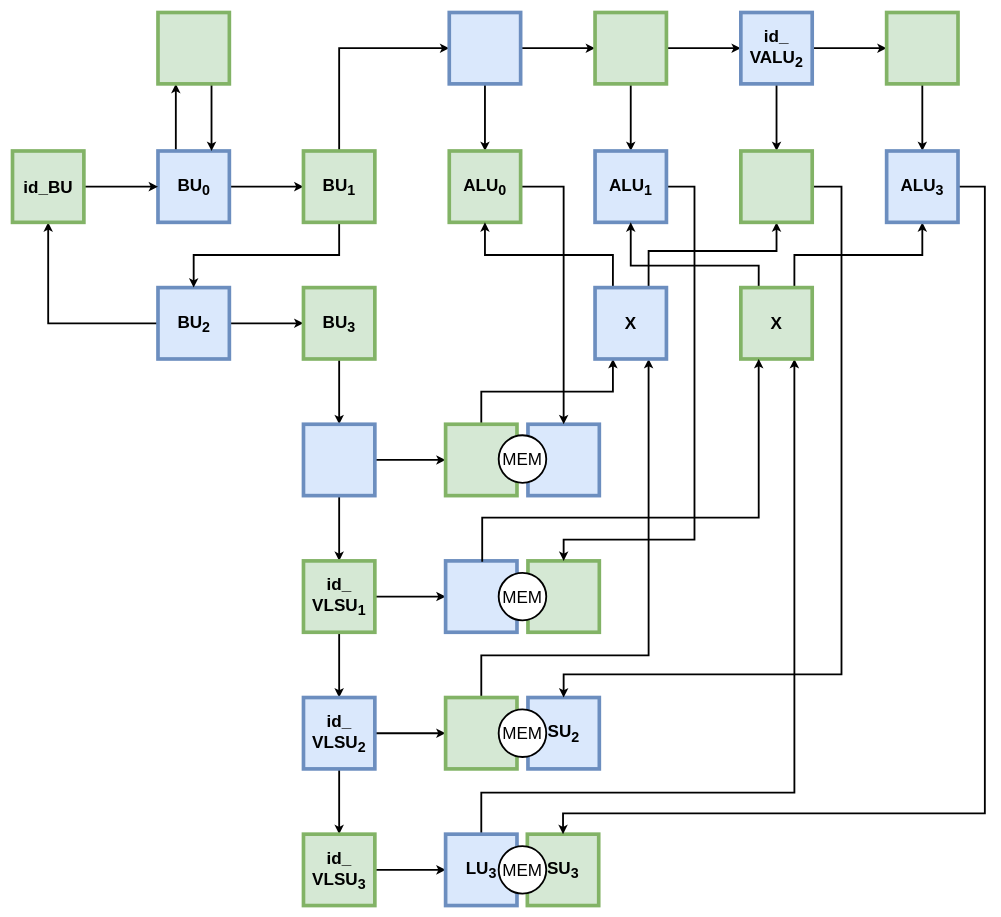
The diagram is 1001 pixels wide and 917 high, and some of its shapes have lost their labels. Each missing label, with the centre of its shape:
ALU 2: the point at 776,186
id_ VALU 0: the point at 484,47
id_ VALU 1: the point at 630,47
id_ VALU 3: the point at 922,47
id_ VLSU 0: the point at 338,459
IMM: the point at 193,47
LU 0: the point at 480,459
LU 1: the point at 480,596
LU 2: the point at 480,732
SU 0: the point at 563,459
SU 1: the point at 563,596
